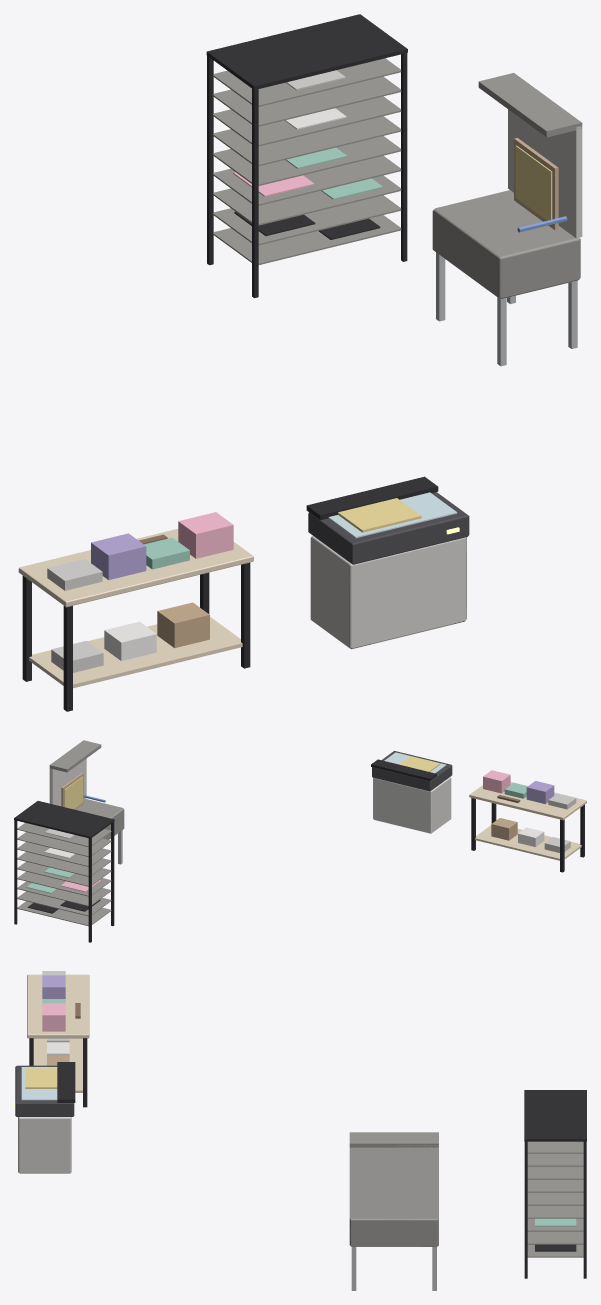
The model's file is einrichtung_siebdruck_buehne.glb.
The picture shows the model from 3 angles, top to bottom: view 1: azimuth 30°, elevation 25°; view 2: azimuth 150°, elevation 25°; view 3: azimuth 270°, elevation 25°; orthographic projection. The views are drawn at different scales.
Parts seen in each view (by area): view 1: einrichtung_siebdruck_buehne; view 2: einrichtung_siebdruck_buehne; view 3: einrichtung_siebdruck_buehne.
Boxes of the visible parts, <box> form: einrichtung_siebdruck_buehne: <box>18,14,582,711</box>; einrichtung_siebdruck_buehne: <box>14,740,586,942</box>; einrichtung_siebdruck_buehne: <box>14,971,586,1290</box>.
Size of the model in its own units: 6.45 by 1.82 by 6.39.
